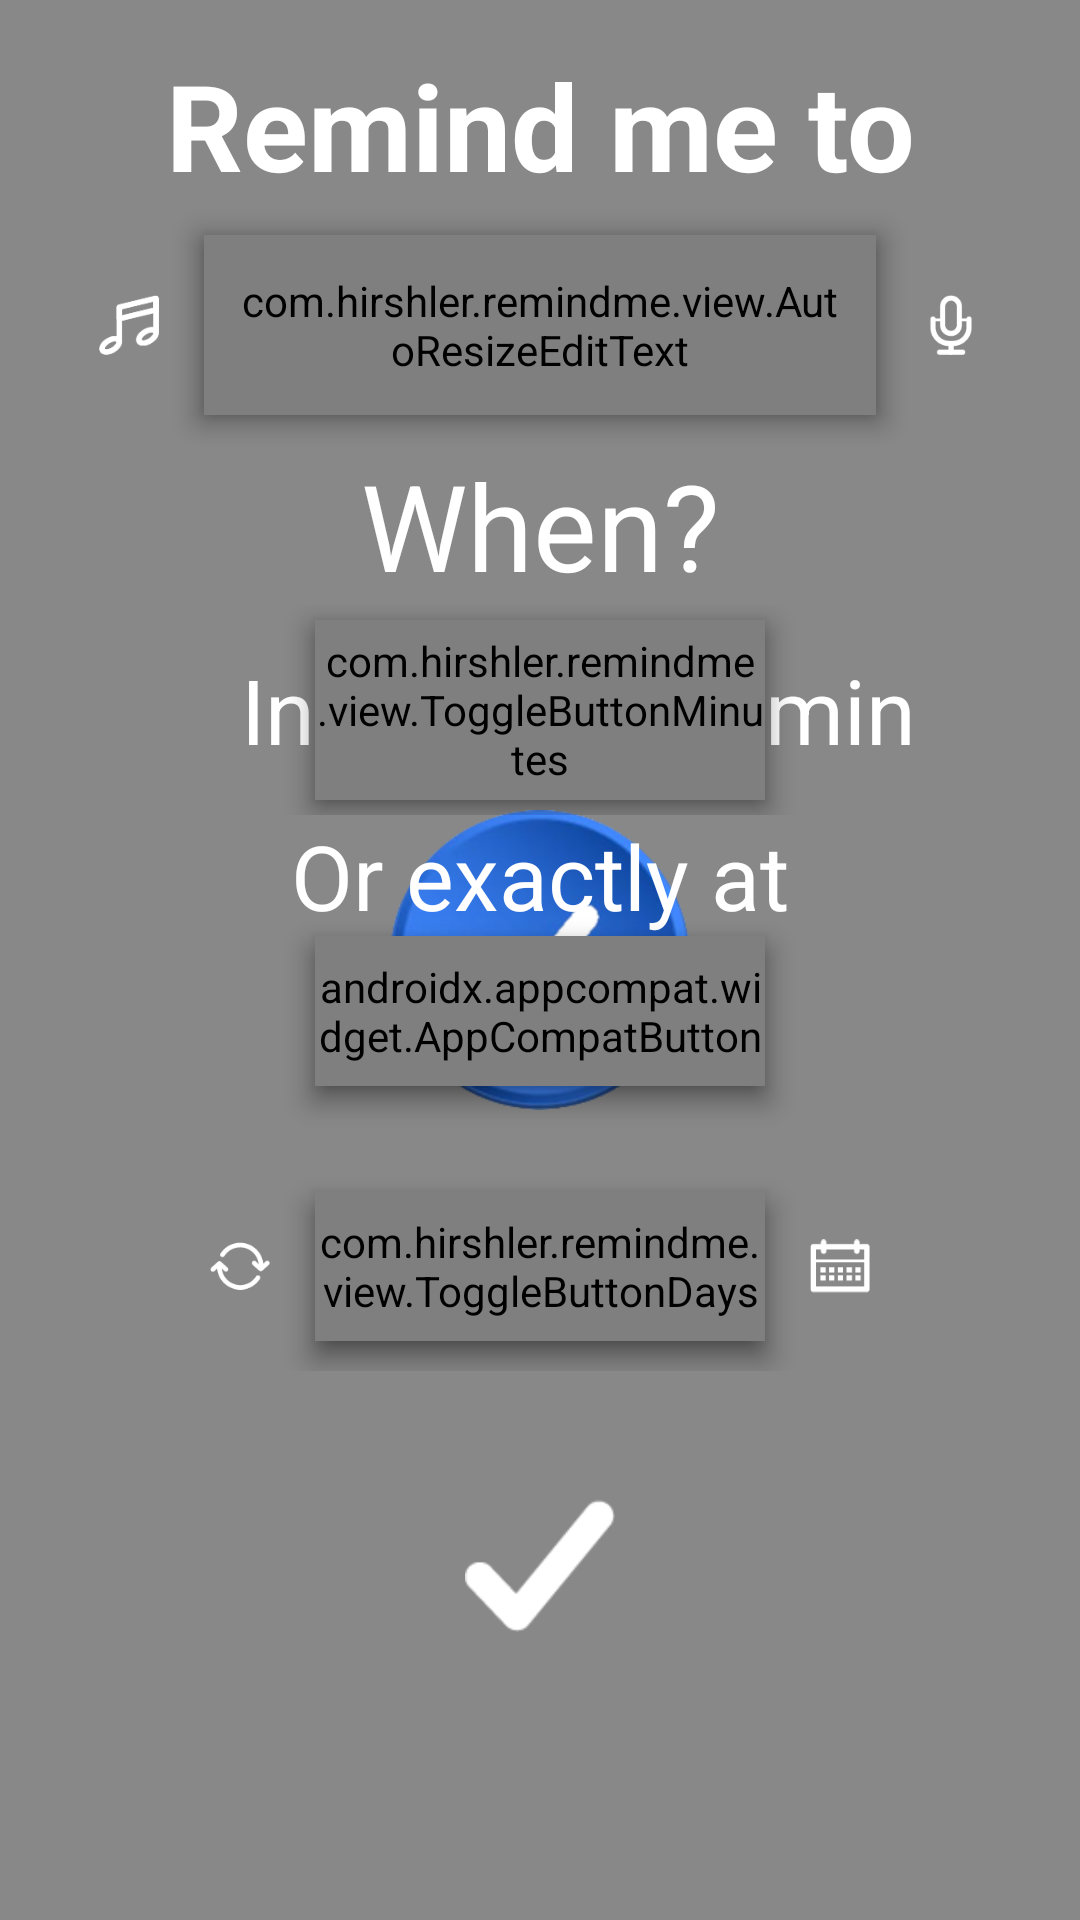

Icons on this 1080*1920 Android screen, each with its box as (x1, y1, x2, y2):
calendar: (810, 1239, 870, 1293)
record: (930, 295, 972, 355)
repeat: (210, 1242, 270, 1290)
ringtone: (99, 295, 159, 355)
